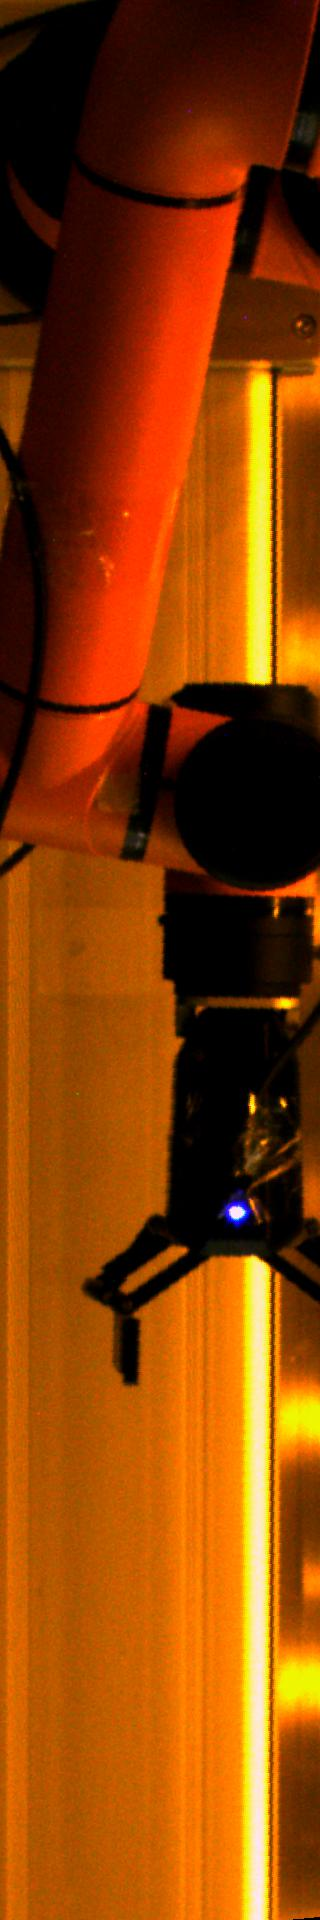keyPoint_1: (222, 1195, 253, 1224)
